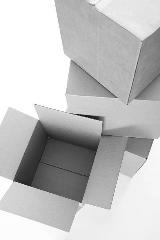paper: (0, 103, 128, 232), (54, 0, 160, 94), (65, 59, 159, 139), (0, 179, 82, 232)
